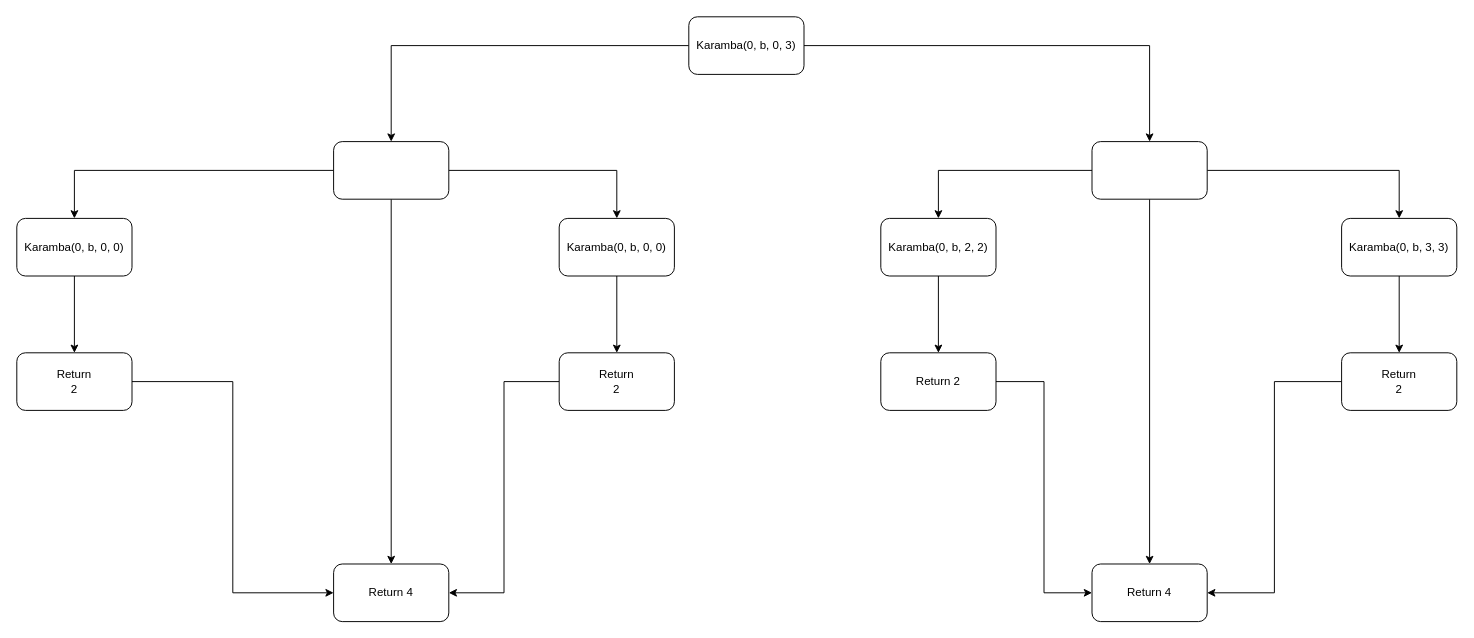
Some shapes in this 1474 by 638 pixel diagram are drawn without their labels. The shapes that lost their labels are listed below. From the top down, each one's box as (x1, y1, x2, y2) in pixels, then its label:
(333, 141, 449, 199): Karamba(0, b, 0, 1)
(1091, 141, 1207, 199): Karamba(0, b, 2, 3)
